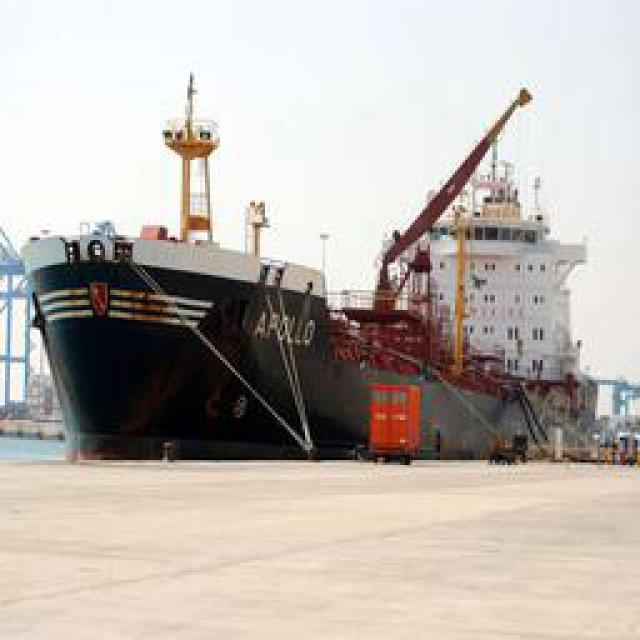Ship: (12, 58, 619, 470)
